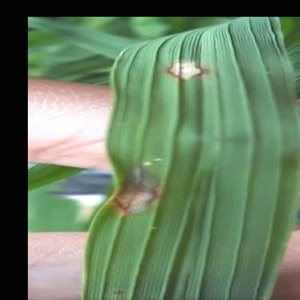Brown_Spot: (111, 153, 185, 226), (157, 46, 223, 97)
